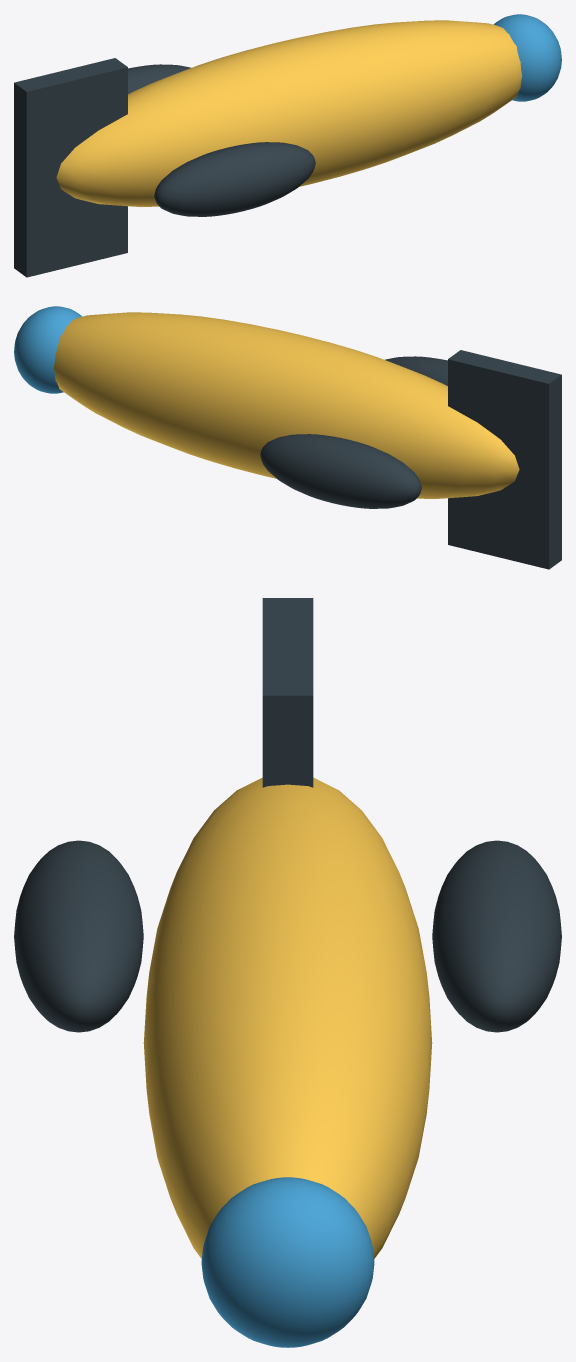
File: mini_rov.glb
The picture shows the model from 3 angles, top to bottom: view 1: azimuth 30°, elevation 25°; view 2: azimuth 150°, elevation 25°; view 3: azimuth 270°, elevation 25°; orthographic projection. The views are drawn at different scales.
Parts seen in each view (by area): view 1: Mini_ROV_Body, Mini_ROV_Tail, Mini_ROV_Thruster_-1, Mini_ROV_Camera, Mini_ROV_Thruster_1; view 2: Mini_ROV_Body, Mini_ROV_Tail, Mini_ROV_Thruster_1, Mini_ROV_Camera, Mini_ROV_Thruster_-1; view 3: Mini_ROV_Body, Mini_ROV_Camera, Mini_ROV_Thruster_1, Mini_ROV_Thruster_-1, Mini_ROV_Tail.
Part boxes in pixels (x1,y1,x2,y2): Mini_ROV_Body: (56,20,522,207); Mini_ROV_Tail: (14,58,127,277); Mini_ROV_Thruster_-1: (154,142,315,216); Mini_ROV_Camera: (494,14,561,101); Mini_ROV_Thruster_1: (128,64,190,93); Mini_ROV_Body: (53,312,519,499); Mini_ROV_Tail: (448,350,561,569); Mini_ROV_Thruster_1: (260,434,421,508); Mini_ROV_Camera: (14,306,81,393); Mini_ROV_Thruster_-1: (385,356,447,385); Mini_ROV_Body: (143,777,432,1258); Mini_ROV_Camera: (201,1177,374,1347); Mini_ROV_Thruster_1: (432,840,561,1032); Mini_ROV_Thruster_-1: (14,840,143,1032); Mini_ROV_Tail: (262,598,313,787).
Size of the model in its own units: 1.69 by 0.56 by 0.76.
